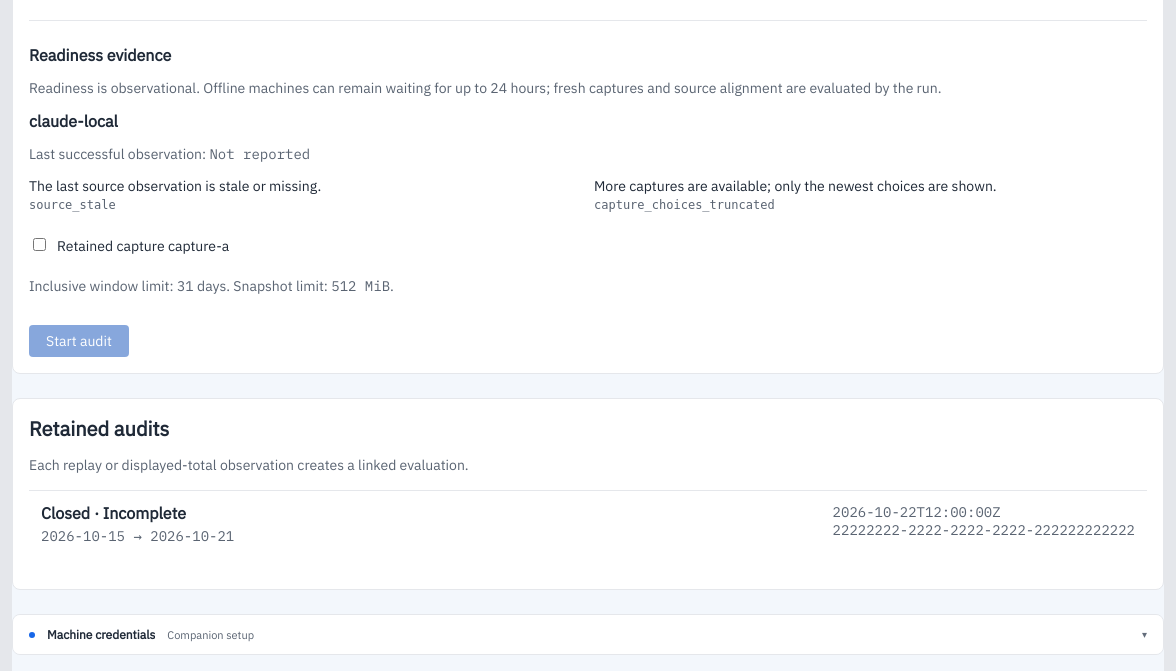
Scenario: shows exact coverage and findings with expected/actual/delta, currency and basis
(page scrolled)
Click the button with aria-label "Open audit". click: (114, 513)
box: [29,490,1147,557]
(page scrolled)
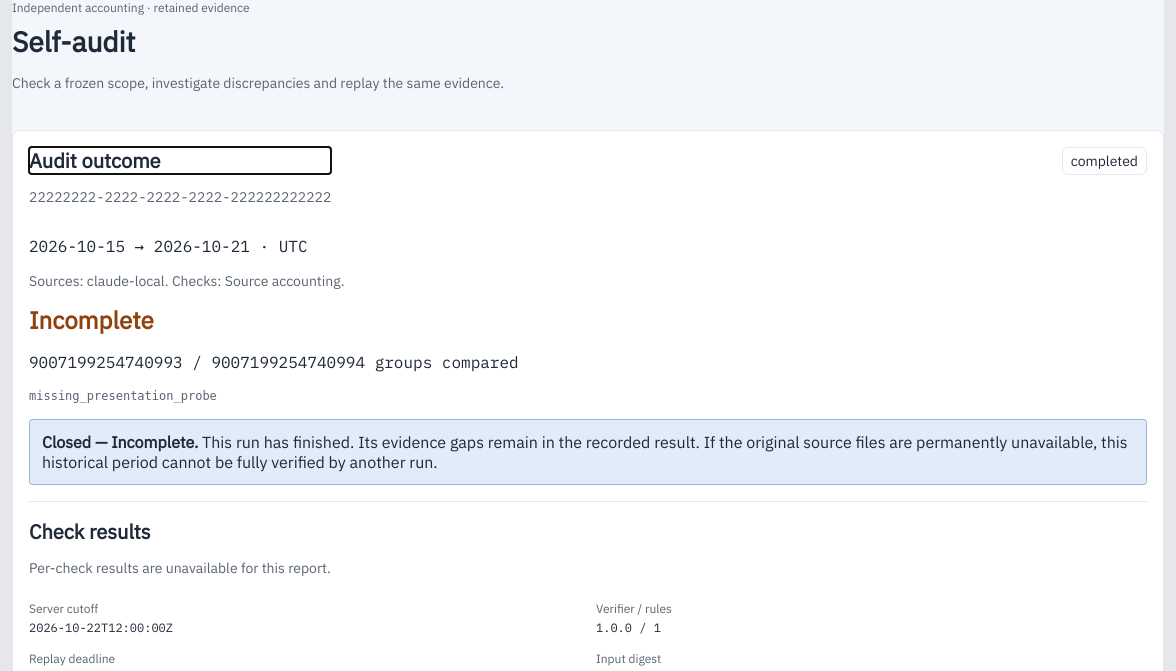
Expected: the text "9007199254740993 / 9007199254740994 groups compared" is shown, [29,352,519,372]
Expected: the text "missing_presentation_probe" is shown, [29,389,217,403]
